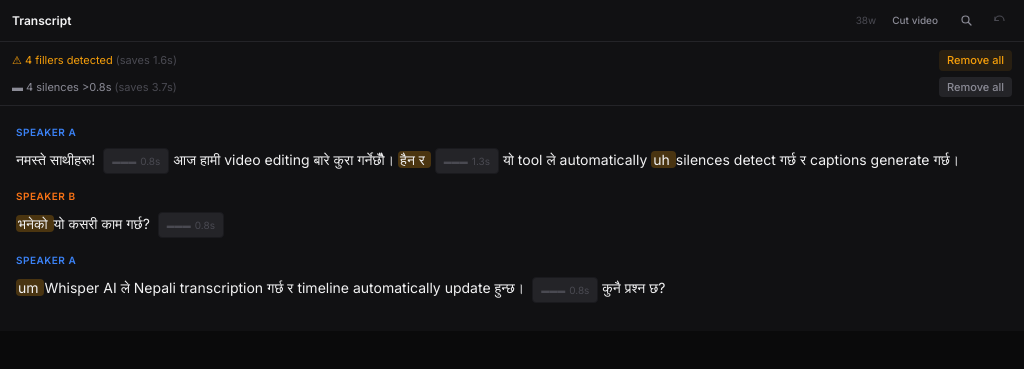
Scenario: TranscriptEditor — search › search match count is shown
Click the button with test id "open-search" at (966, 20), box [954,8,979,33]
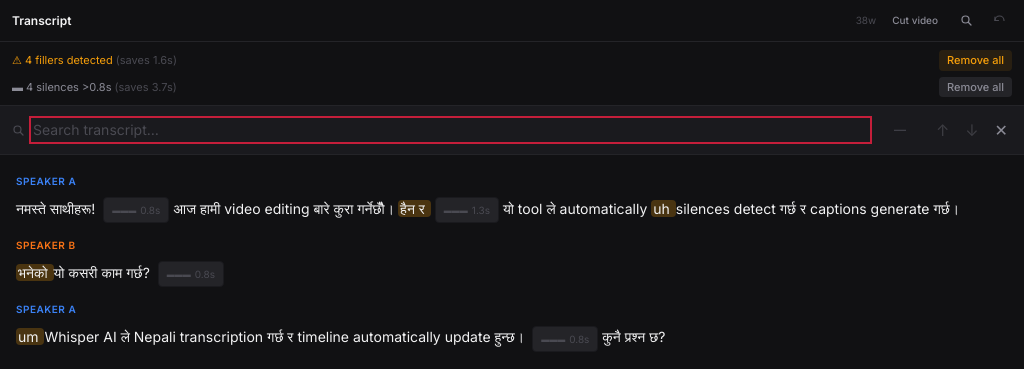
Type "video" into the field with test id "transcript-search-input" at (450, 130), box [33,120,868,140]
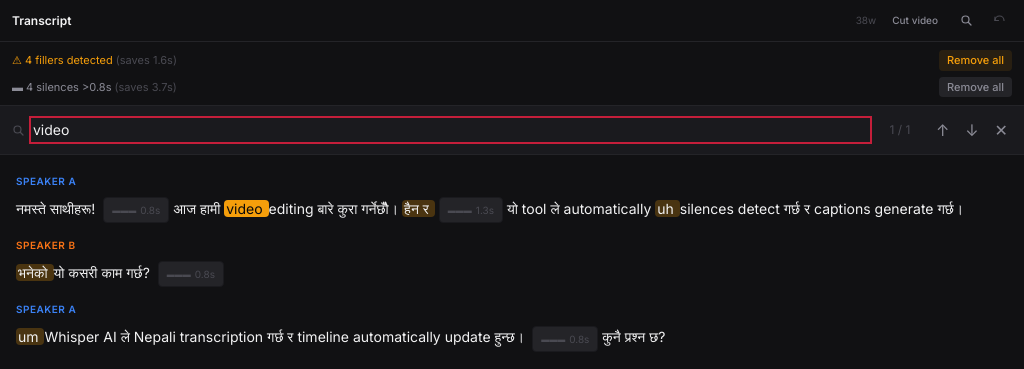
Now the text with test id "search-match-count" no longer shows "—"
